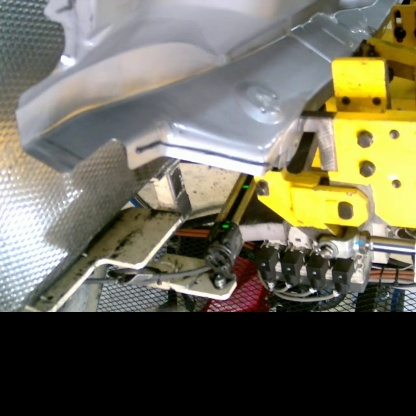line: (134, 138, 273, 168)
